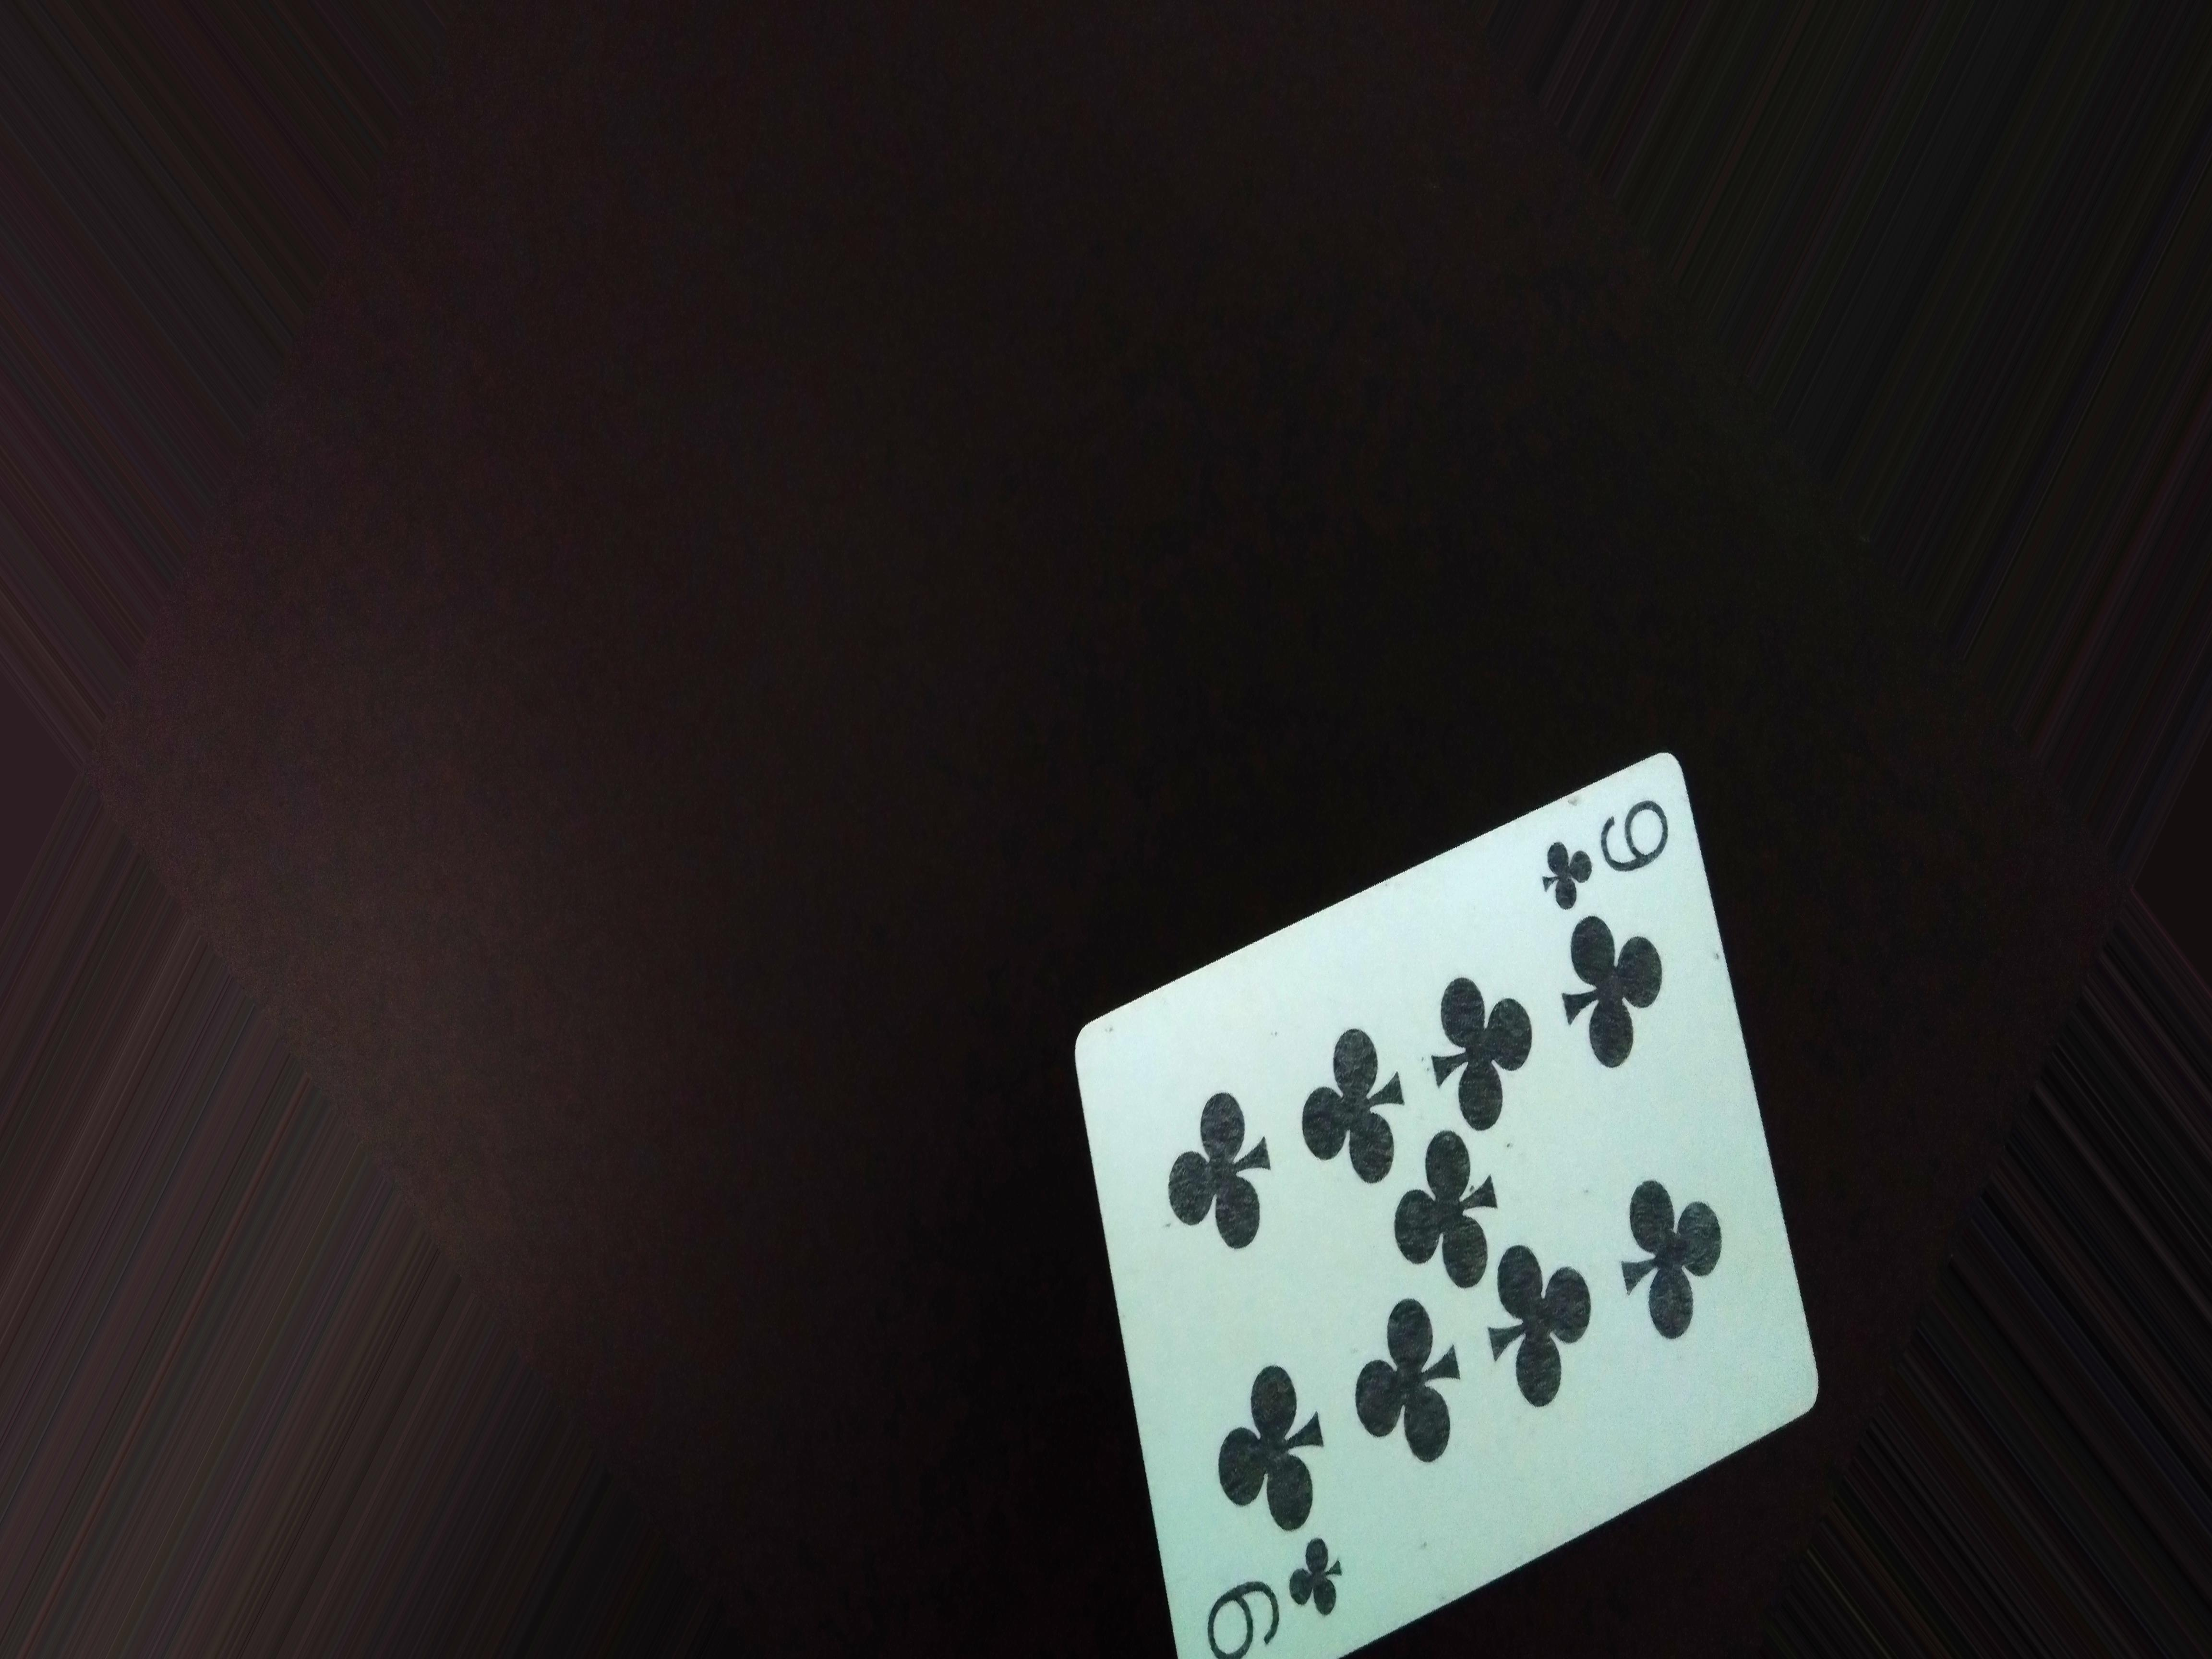9C: (1536, 793, 1679, 910)
